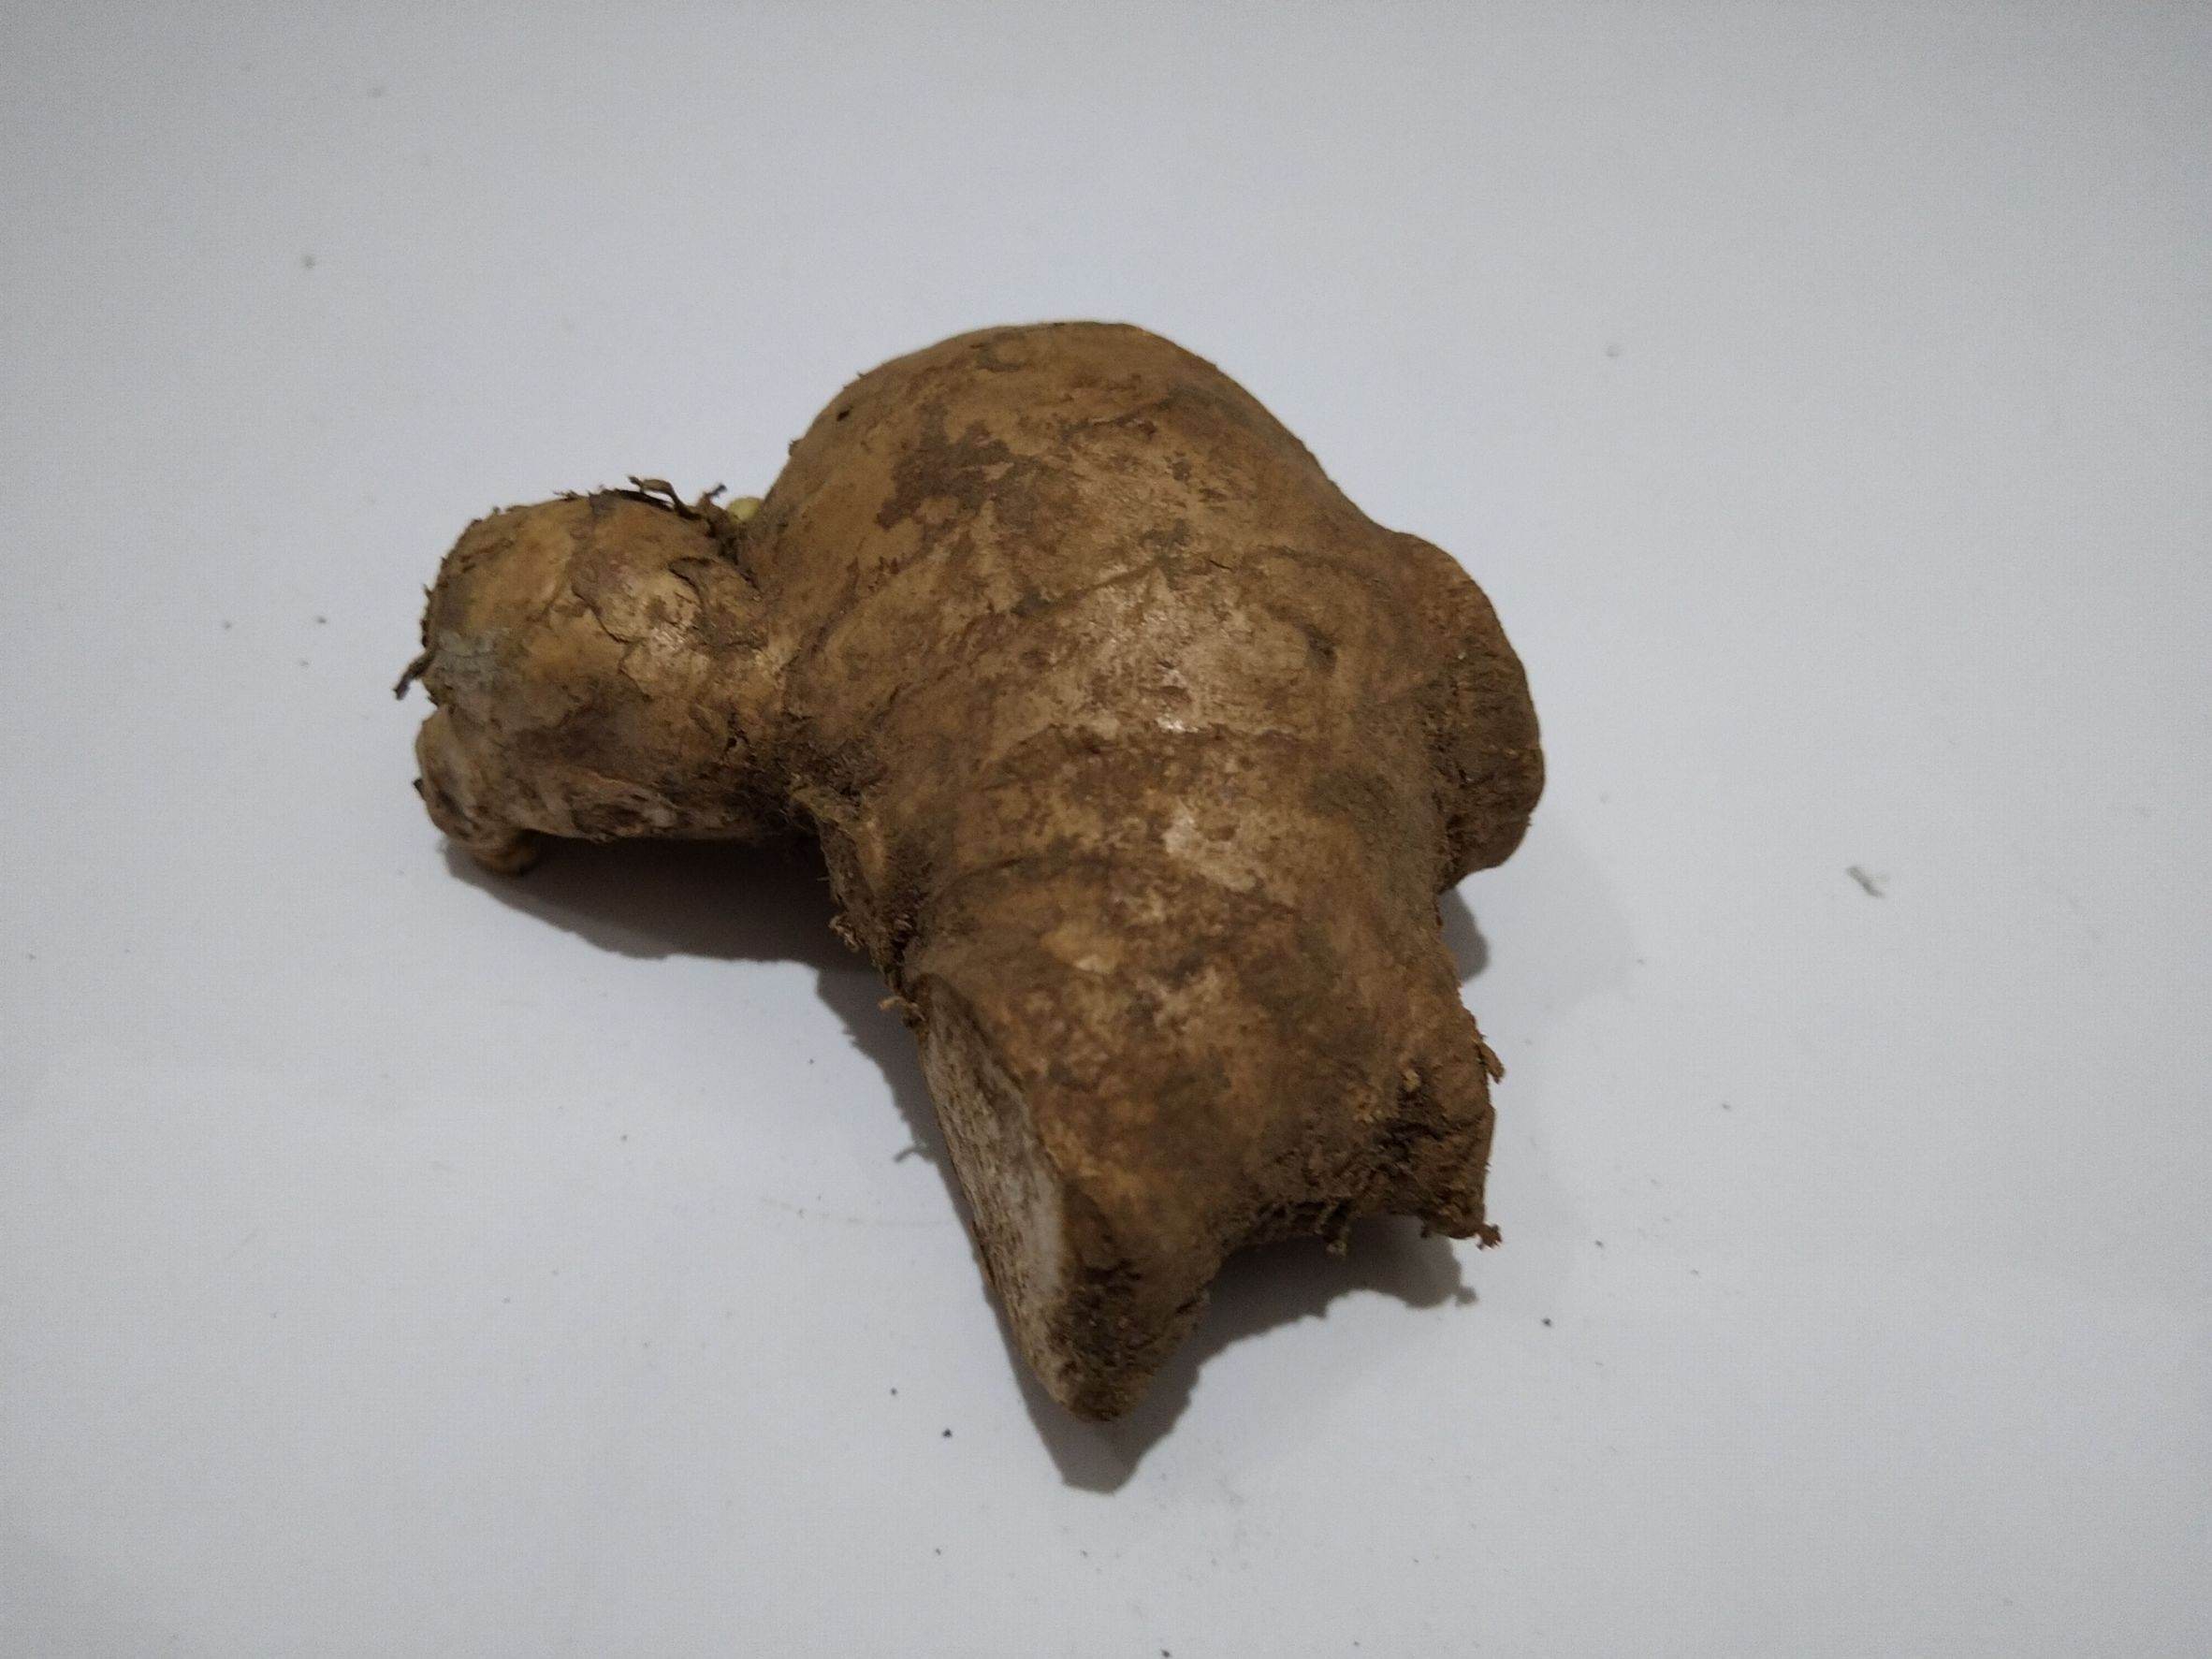Jahe: (434, 315, 1547, 1481)
